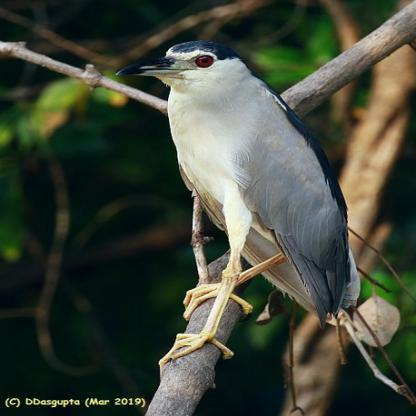Burung: (114, 38, 362, 362)
